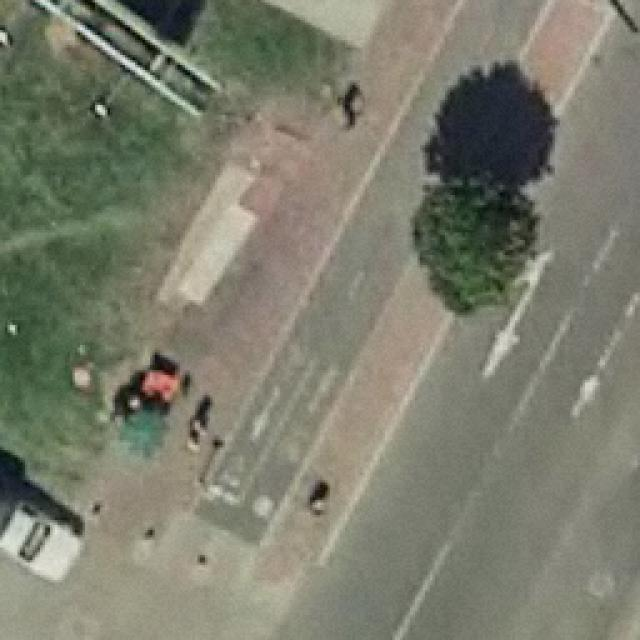vendedor_ambulante: (116, 405, 172, 458)
